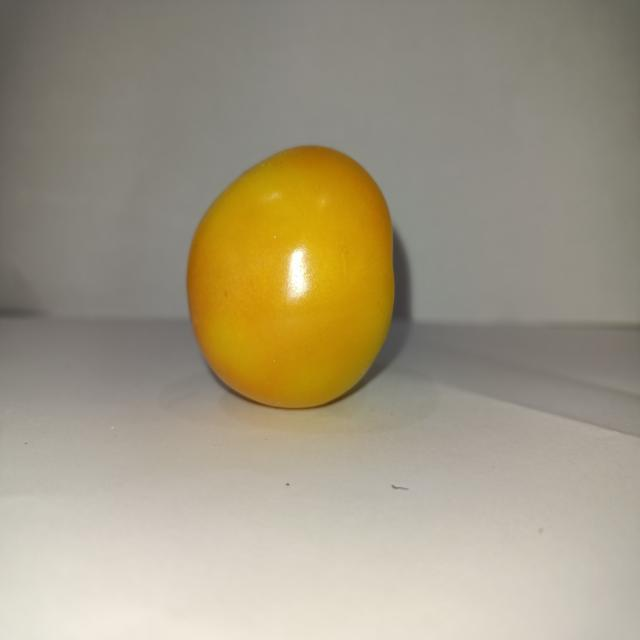Red: (185, 143, 396, 410)
